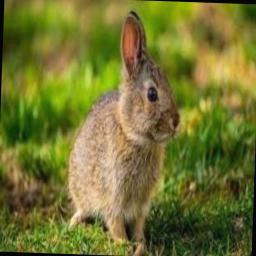rabbit: (68, 10, 180, 255)
